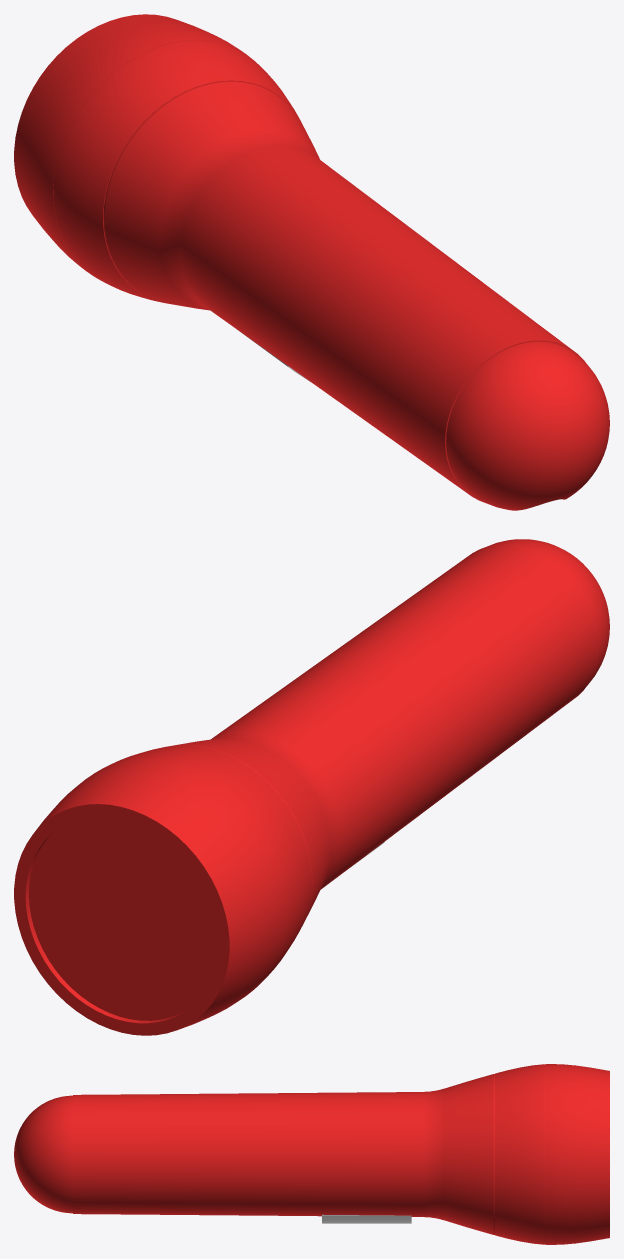
File: flashlight.gltf
3 renders of one model, top to bottom at view 1: azimuth 30°, elevation 25°; view 2: azimuth 150°, elevation 25°; view 3: azimuth 270°, elevation 25°, orthographic. The views are drawn at different scales.
Visible parts, largest first — view 1: Part 1; view 2: Part 1; view 3: Part 1, Part 2.
Part boxes in pixels (x1,y1,x2,y2): Part 1: [14, 14, 609, 510]; Part 1: [14, 539, 609, 1035]; Part 1: [14, 1064, 609, 1244]; Part 2: [322, 1214, 411, 1223].
Size of the model in its own units: 0.0606 by 0.0606 by 0.1998.
